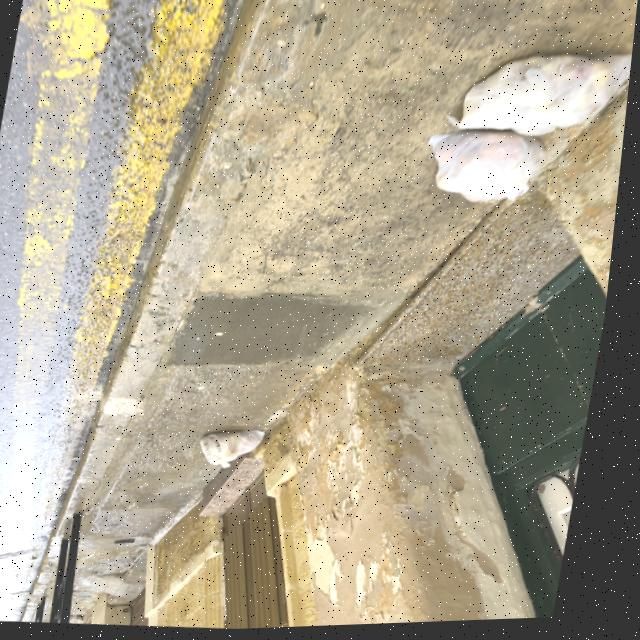Organic Waste -White Bag-: (444, 41, 636, 142), (413, 126, 561, 219), (197, 418, 281, 478)
